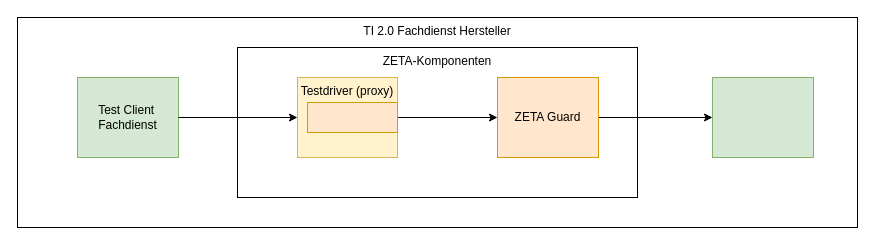
Some shapes in this 875 by 245 pixel diagram are drawn without their labels. Here are the shapes that lost their labels. From the top down, the centre of each, then its label:
point 352,117: ZETA Client
point 763,117: Resource Server
